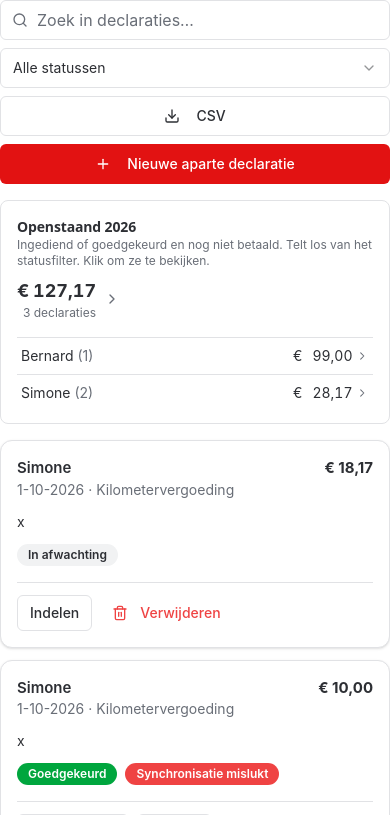
Test: InternalDeclarationsView open totaal › admin klikt bestuurder: exact diens open declaraties en som
Click the button with aria-label "Bekijk openstaande declaraties van Bernard".
click(47, 356)  # box [17,338,373,374]
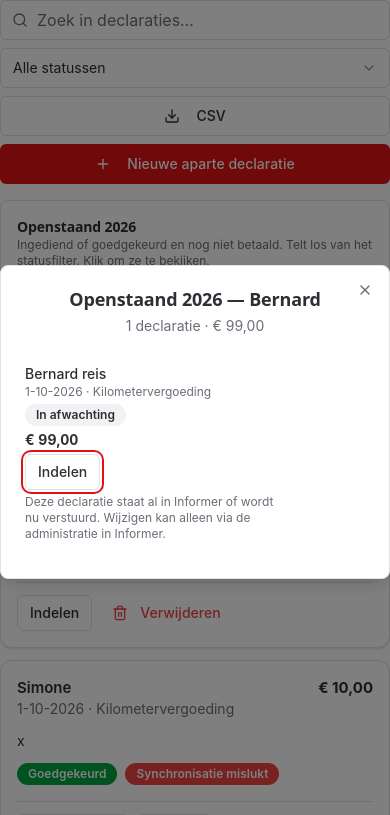
Expected: the text with test id "drill-summary" reads "1 declaratie · € 99,00", [126,317,264,334]
Expected: the list item shows "Bernard reis", [25,365,106,382]
